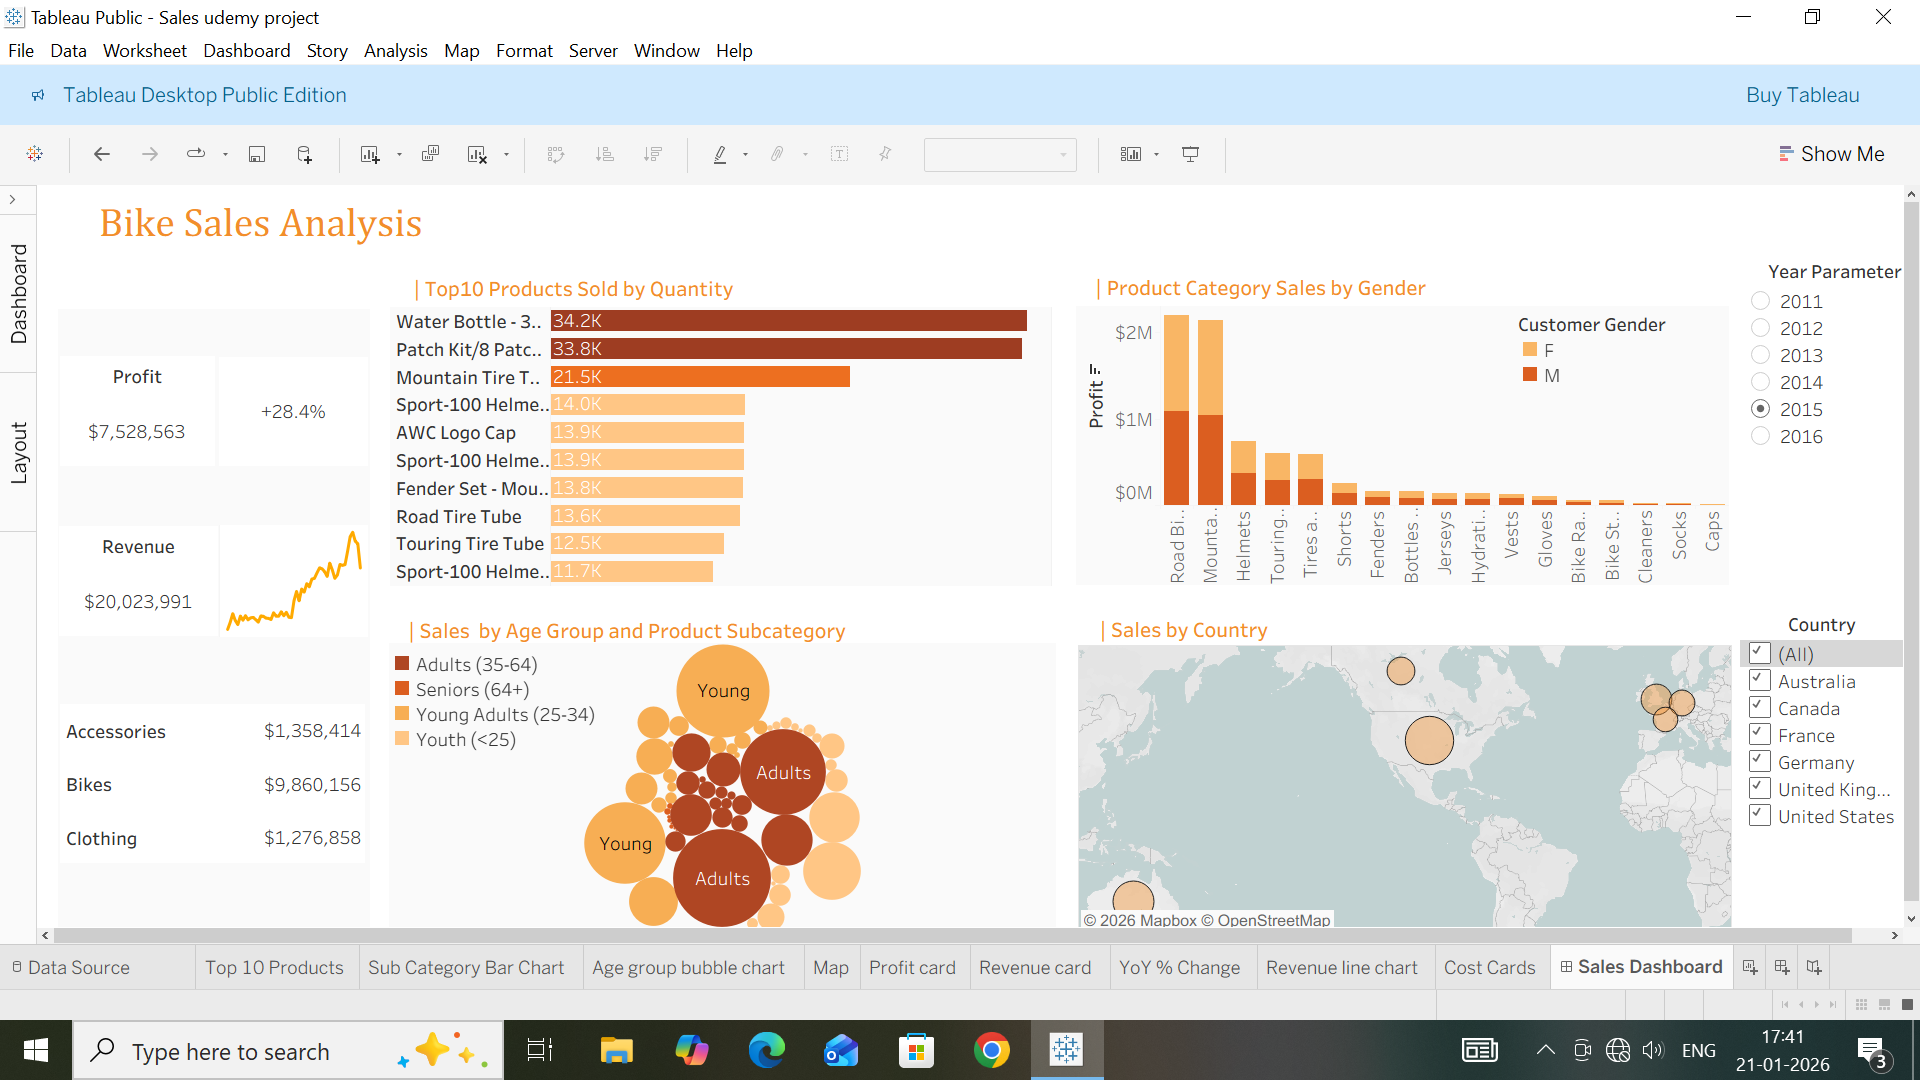

Layout of this report page (visuals, bound fields, positions):
{"tool":"tableau","page":{"name":"Sales Dashboard","canvas":[1400,750],"ordinal":0},"visuals":[{"type":"title","box":[8,8,1224,57]},{"type":"blank","box":[8,65,1224,677]},{"type":"parameter","param":"[Parameters].[Parameter 1]","box":[1256,72.8,137,644.9]},{"type":"text","box":[764.6,86.9,482.7,31.3]},{"type":"text","box":[261.8,87.9,484.4,31.3]},{"type":"worksheet","title":"Sub Category Bar Chart","mark":"Automatic","rows":["Profit"],"cols":["Sub_Category"],"box":[765.5,121.3,480.9,279]},{"type":"worksheet","title":"Top 10 Products","mark":"Bar","rows":["Product"],"box":[260.1,122.3,487.9,279]},{"type":"legend","title":"Sub Category Bar Chart","param":"[federated.12mor1f0a3b80j12hsu1j08zi5yz].[none:Customer_Gender:nk]","box":[1091,126,149,77]},{"type":"worksheet","title":"Profit card","mark":"Automatic","cols":["Calculation_136796868531236866"],"box":[17,171,114,110]},{"type":"worksheet","title":"YoY % Change","mark":"Automatic","cols":["Calculation_136796868538544136"],"box":[134,172,110,109]},{"type":"worksheet","title":"Revenue line chart","mark":"Automatic","rows":["Revenue"],"cols":["Date"],"box":[134,340,110,112]},{"type":"worksheet","title":"Revenue card ","mark":"Automatic","cols":["Calculation_136796868542418953"],"box":[16,341,117,110]},{"type":"filter","title":"Age group bubble chart","param":"[federated.12mor1f0a3b80j12hsu1j08zi5yz].[none:Country:nk]","box":[1255,426,121,224]},{"type":"text","box":[768.1,427.6,479.2,32.3]},{"type":"text","box":[258.4,430.6,490.5,28.3]},{"type":"worksheet","title":"Age group bubble chart","mark":"Circle","box":[259.2,457.9,491.4,288.1]},{"type":"worksheet","title":"Map","mark":"Automatic","box":[767.2,459.9,481.8,289.1]},{"type":"legend","title":"Age group bubble chart","param":"[federated.12mor1f0a3b80j12hsu1j08zi5yz].[none:Age_Group:nk]","box":[260.1,466,170.2,114.2]},{"type":"worksheet","title":"Cost Cards","mark":"Automatic","rows":["Product_Category"],"box":[16.6,518.5,225.2,159.7]}]}

Visuals, with their boxes on the page's 1400x750 design canvas (x1, y1, x2, y2). These are canvas units, not pixel positions in the 1920x1080 screenshot, which may show the page scaled, cropped or inside an application window:
title: bbox=[8, 8, 1232, 65]
blank: bbox=[8, 65, 1232, 742]
parameter: bbox=[1256, 73, 1393, 718]
text: bbox=[765, 87, 1247, 118]
text: bbox=[262, 88, 746, 119]
"Sub Category Bar Chart" worksheet: bbox=[766, 121, 1246, 400]
"Top 10 Products" worksheet (Bar marks): bbox=[260, 122, 748, 401]
"Sub Category Bar Chart" legend: bbox=[1091, 126, 1240, 203]
"Profit card" worksheet: bbox=[17, 171, 131, 281]
"YoY % Change" worksheet: bbox=[134, 172, 244, 281]
"Revenue line chart" worksheet: bbox=[134, 340, 244, 452]
"Revenue card " worksheet: bbox=[16, 341, 133, 451]
"Age group bubble chart" filter: bbox=[1255, 426, 1376, 650]
text: bbox=[768, 428, 1247, 460]
text: bbox=[258, 431, 749, 459]
"Age group bubble chart" worksheet (Circle marks): bbox=[259, 458, 751, 746]
"Map" worksheet: bbox=[767, 460, 1249, 749]
"Age group bubble chart" legend: bbox=[260, 466, 430, 580]
"Cost Cards" worksheet: bbox=[17, 518, 242, 678]
